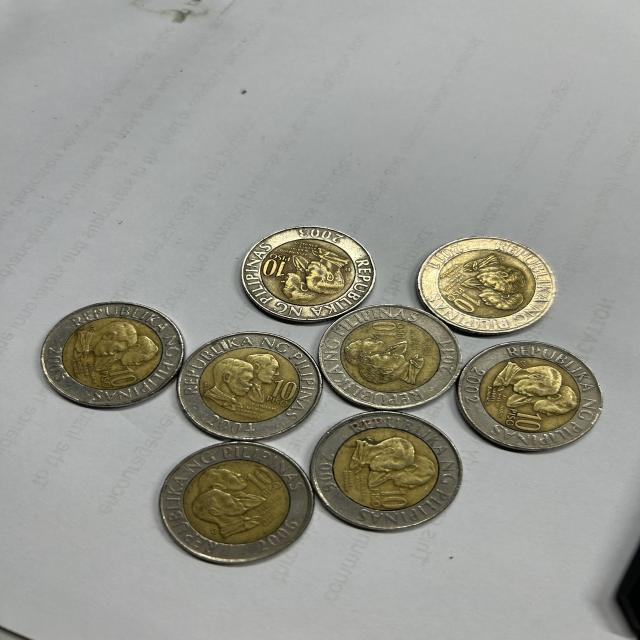10_Old_Front: (511, 410, 544, 432), (377, 487, 410, 508), (266, 378, 298, 399), (260, 255, 288, 278), (247, 465, 276, 487), (107, 366, 138, 385), (371, 321, 400, 338), (452, 294, 481, 310)
